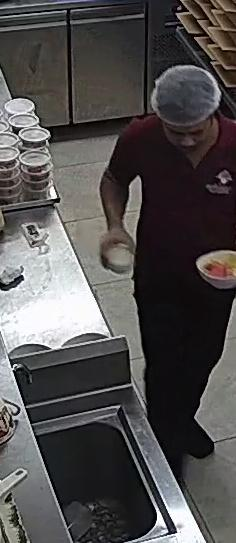no_apron: (135, 124, 236, 255)
